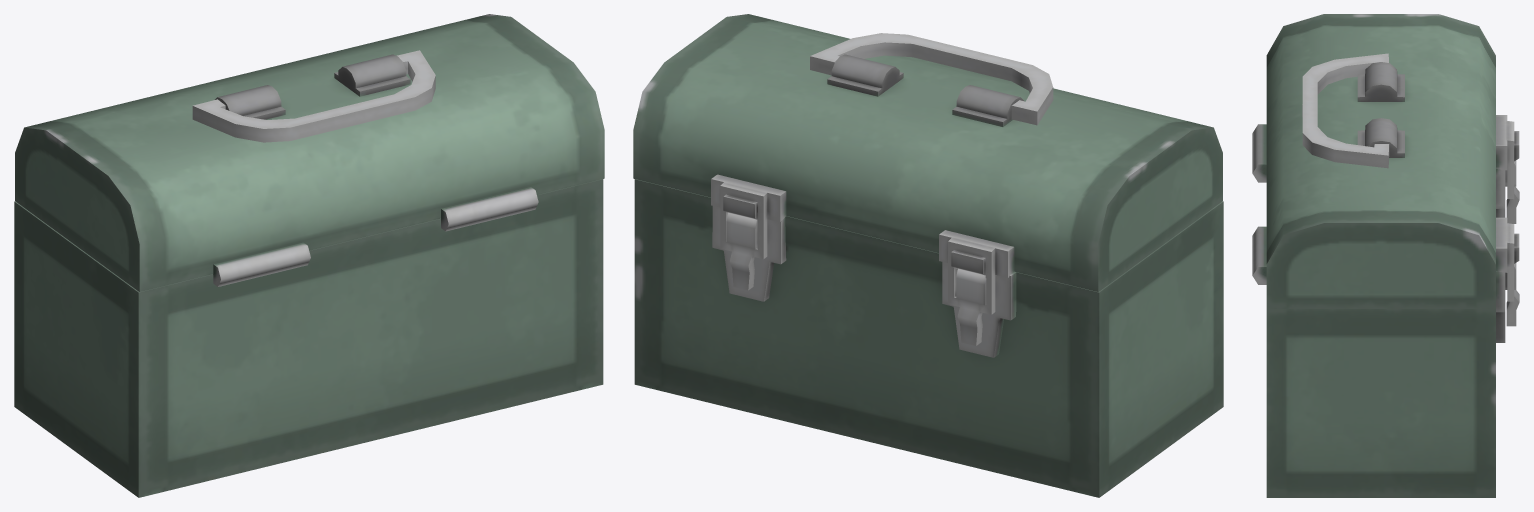
Rendered from Prfb_Toolbox.fbx.
3 views of the same model, side by side, from view 1: azimuth 30°, elevation 25°; view 2: azimuth 150°, elevation 25°; view 3: azimuth 270°, elevation 25° (orthographic). The views are drawn at different scales.
Visible parts, largest first — view 1: Mat_Toolbox; view 2: Mat_Toolbox; view 3: Mat_Toolbox.
Boxes of the visible parts, box(x1,y1,x2,y2) form: Mat_Toolbox: box(14, 14, 604, 497); Mat_Toolbox: box(633, 14, 1223, 497); Mat_Toolbox: box(1252, 14, 1519, 497).
Bounding box in the file's own units: 0.7244 × 0.4719 × 0.3903.
1 material, 1 textured.
